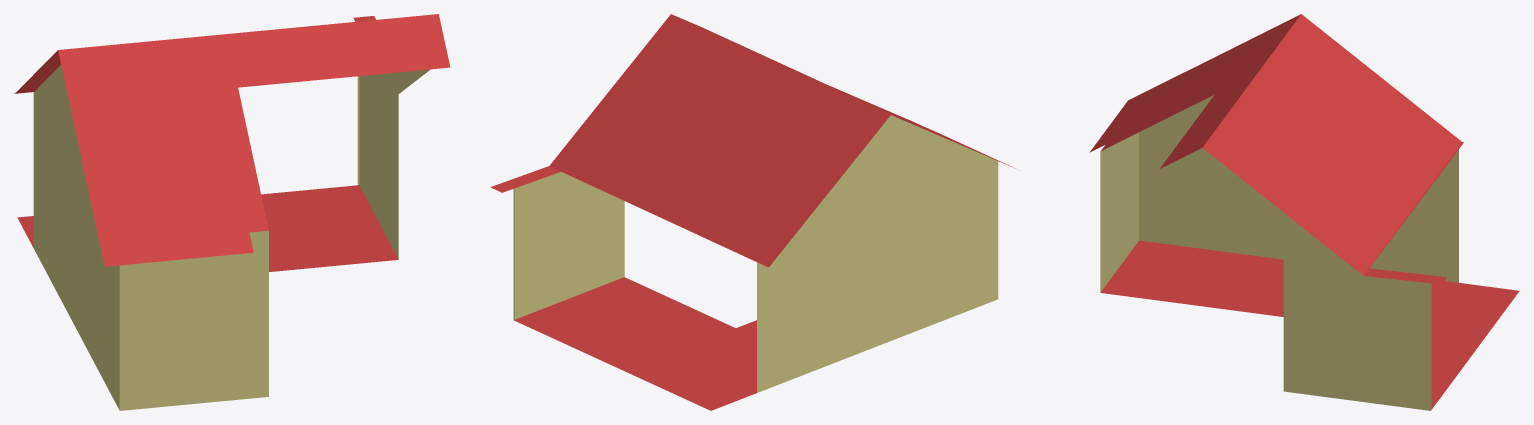
The picture shows the model from 3 angles, left to right: view 1: azimuth 30°, elevation 25°; view 2: azimuth 150°, elevation 25°; view 3: azimuth 270°, elevation 25°; orthographic projection. The views are drawn at different scales.
Size of the model in its own units: 26.35 by 27.76 by 15.68.
